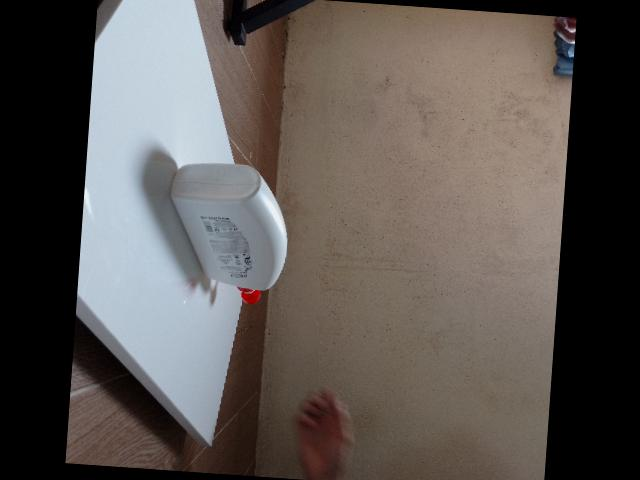life-buoy: (168, 163, 286, 305)
